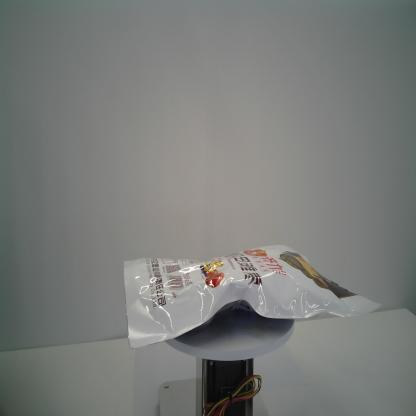Dried Food: (122, 243, 382, 349)
